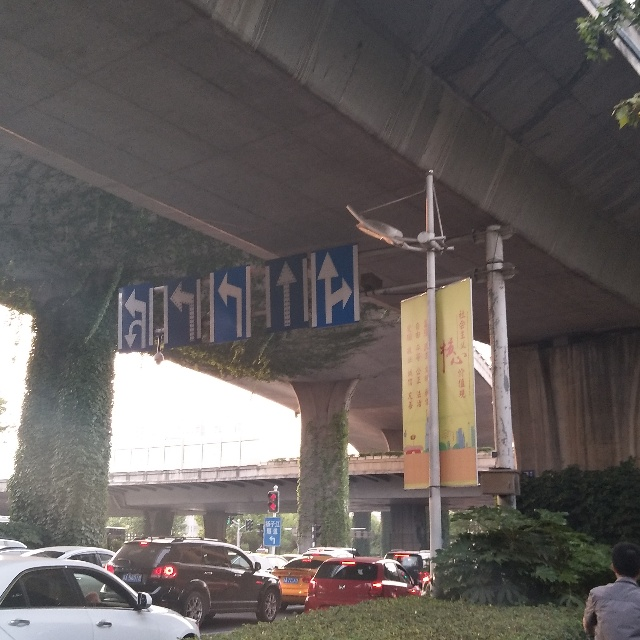left: (211, 272, 250, 341), (160, 282, 198, 345)
straight: (266, 262, 301, 331)
